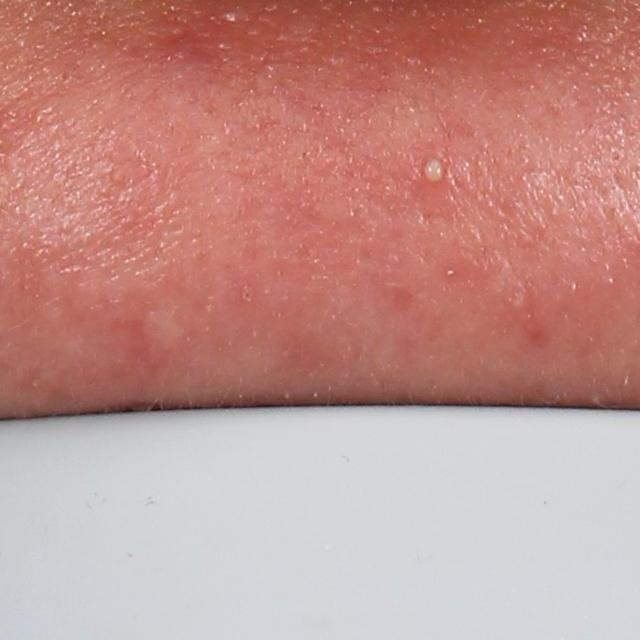hypertrophic_scar: (139, 308, 190, 370)
pustule: (418, 157, 443, 186)
